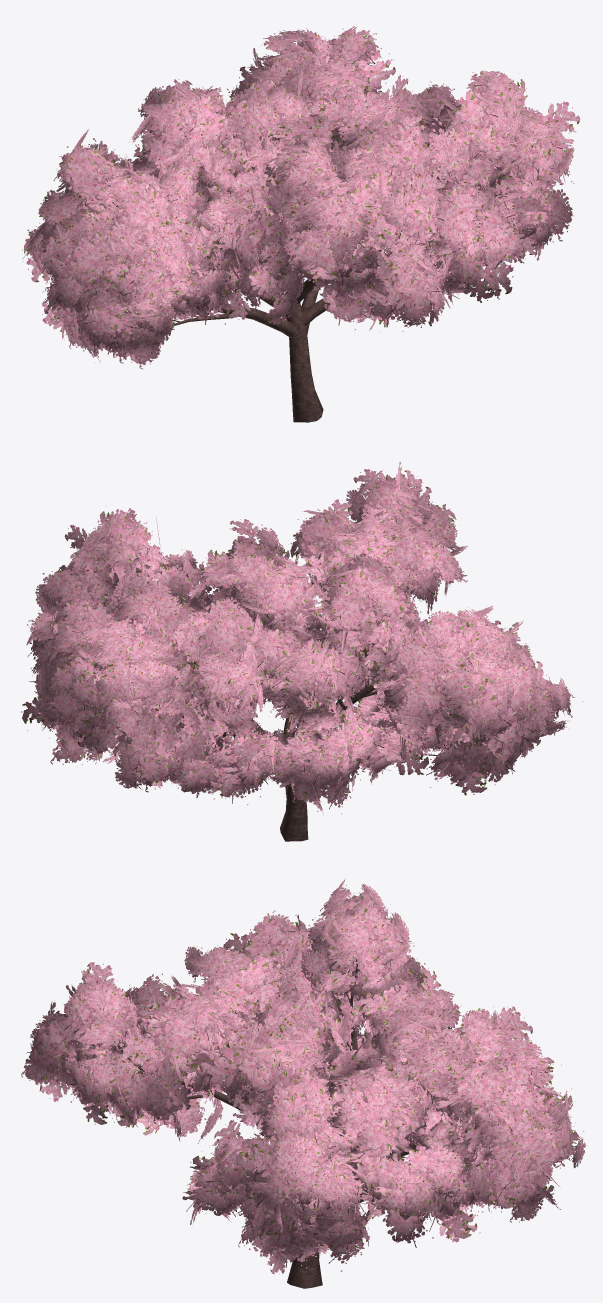
Rendered from Sakura_A.fbx.
3 views of the same model, one above another, from view 1: azimuth 30°, elevation 25°; view 2: azimuth 150°, elevation 25°; view 3: azimuth 270°, elevation 25° (orthographic). The views are drawn at different scales.
Visible parts, largest first — view 1: Sakura_A; view 2: Sakura_A; view 3: Sakura_A.
Boxes of the visible parts, x1,y1,x2,y2 form: Sakura_A: [22, 24, 580, 422]; Sakura_A: [21, 461, 583, 841]; Sakura_A: [21, 878, 586, 1288].
Bounding box in the file's own units: 13.12 × 7.96 × 11.99.
2 materials, 2 textured.
